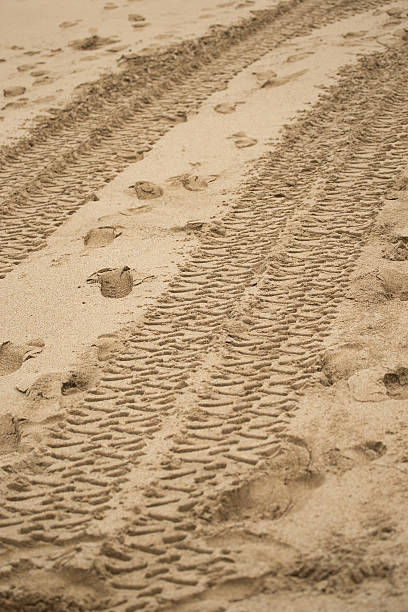vehicle_track: (0, 45, 407, 611), (0, 0, 378, 278)
